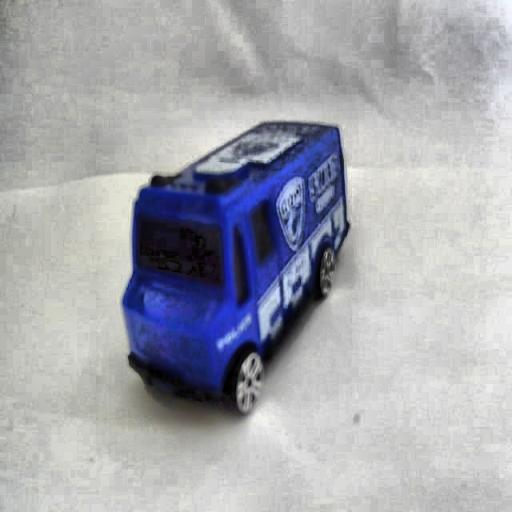police car: (118, 114, 348, 420)
